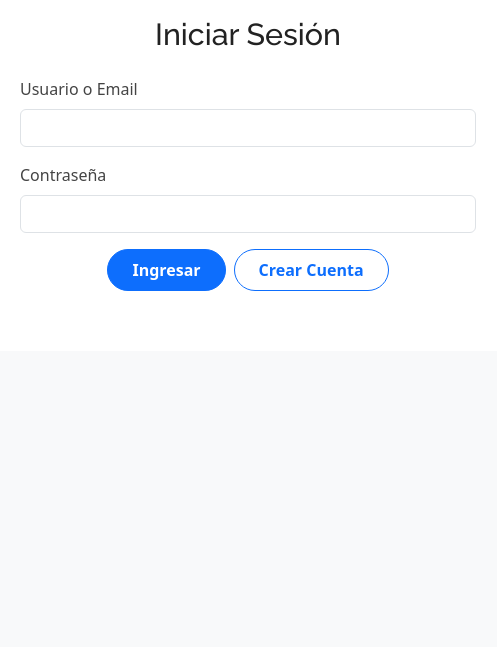
Test case: Auth - Registro › con datos válidos, vuelve al formulario de login
Click the button "Crear Cuenta".
click(311, 270)  # box 234,248 -> 389,290
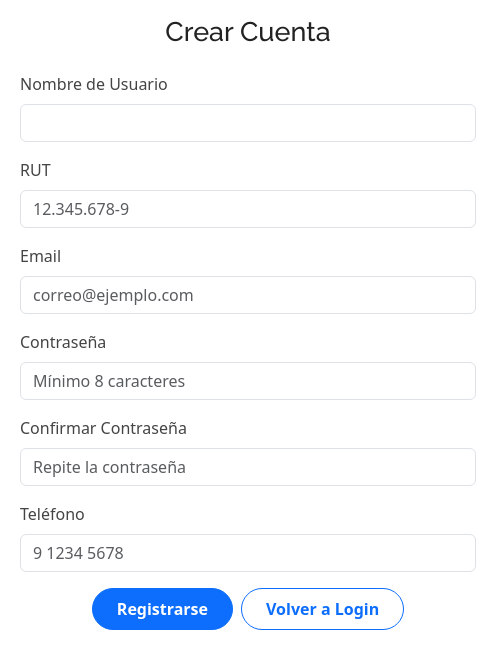
Type "12.345.678-5" into the field labelled "RUT".
click(248, 209); type("12.345.678-5")  # box 20,190 -> 476,228
Type "test@example.com" into the field labelled "Email".
click(248, 295); type("test@example.com")  # box 20,276 -> 476,314
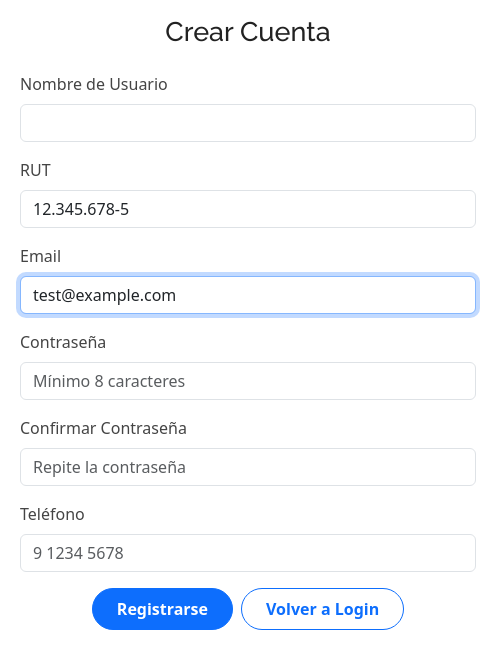
Type "912345678" into the field labelled "Teléfono".
click(248, 553); type("912345678")  # box 20,534 -> 476,572
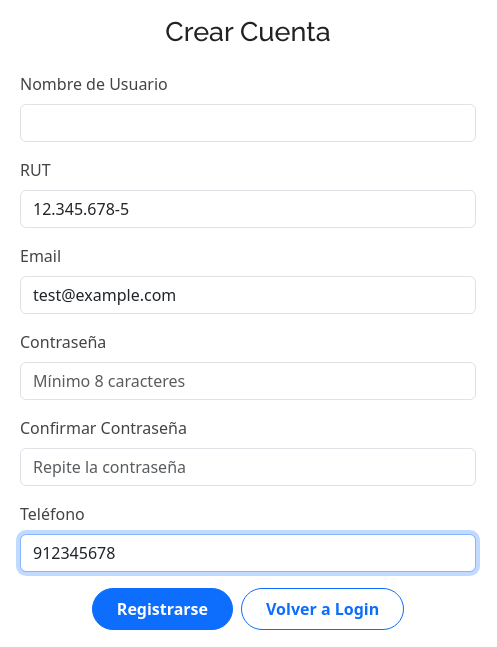
Type "12345678" into the password field with placeholder "Mínimo 8 caracteres".
click(248, 381); type("12345678")  # box 20,362 -> 476,400
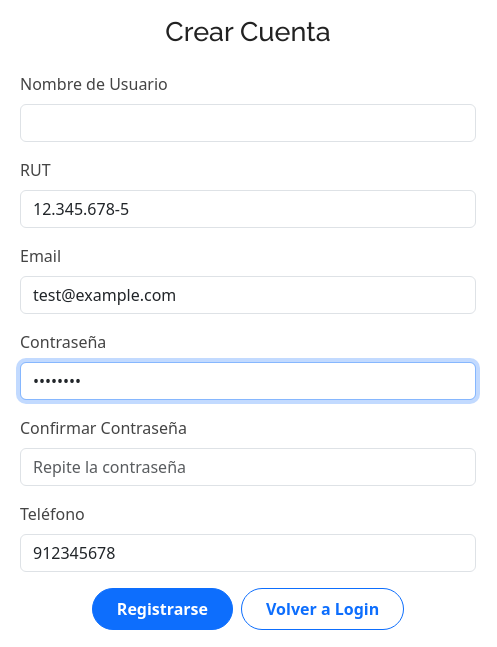
Type "12345678" into the password field with placeholder "Repite la contraseña".
click(248, 467); type("12345678")  # box 20,448 -> 476,486
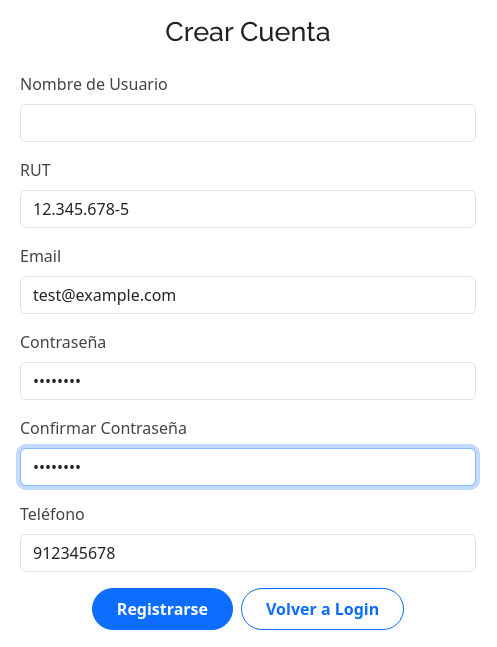
Click the button "Registrarse".
click(162, 609)  # box 92,588 -> 233,630
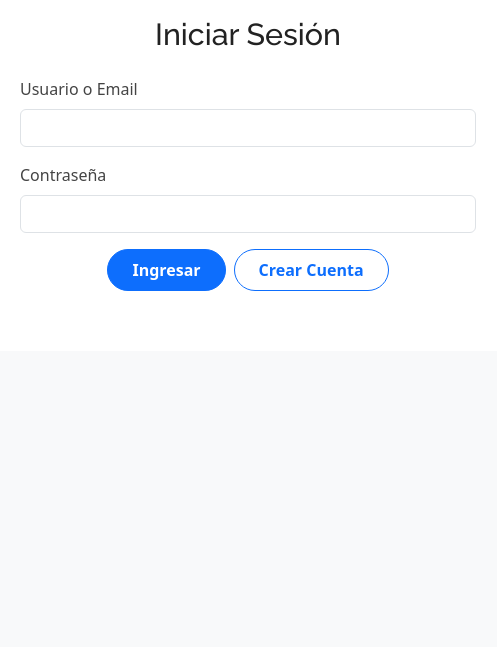
Now the heading "Iniciar Sesión" is shown, box 155,16 -> 341,52
